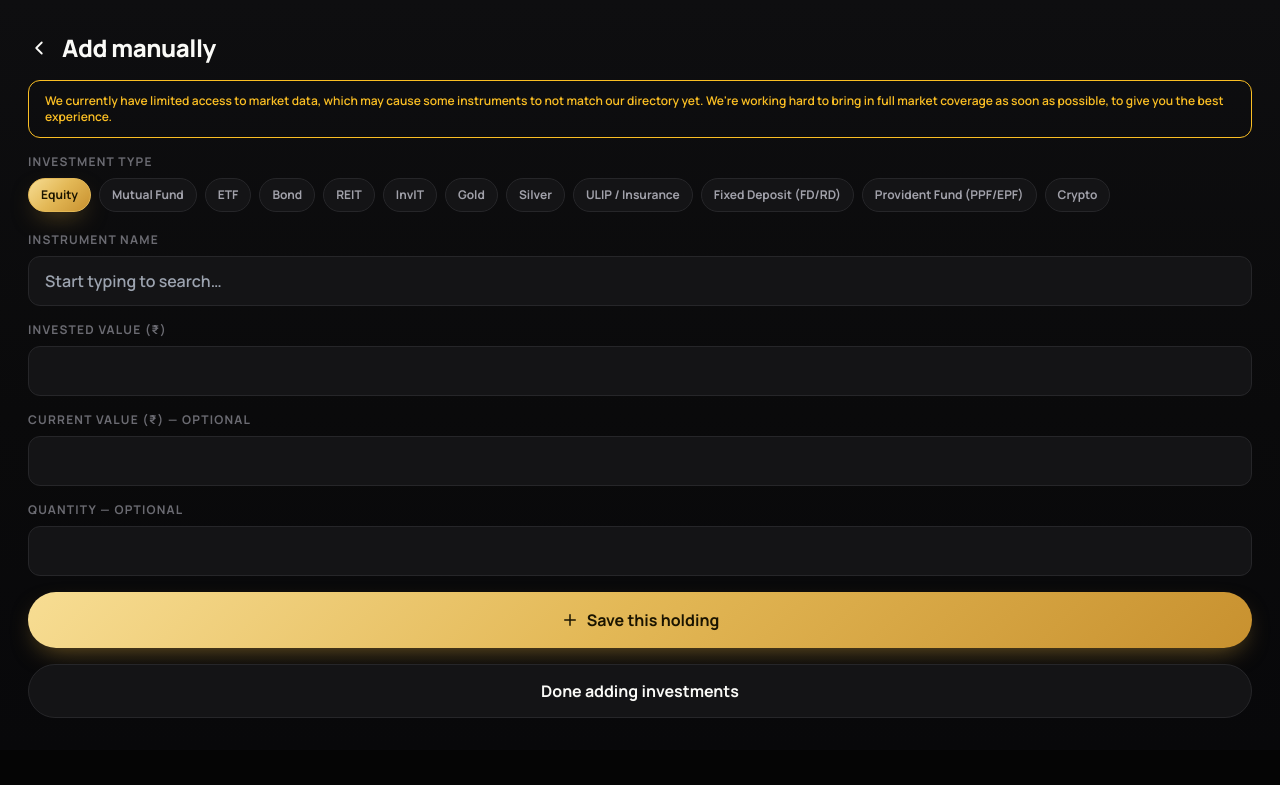
Test: ManualEntry — PF (Provident Fund) › defaults to PPF and pre-fills the current government-declared PPF rate, then switches on EPF/VPF tap
Click the button with test id "asset-class-PF".
click(949, 195)  # box 862,178 -> 1036,212
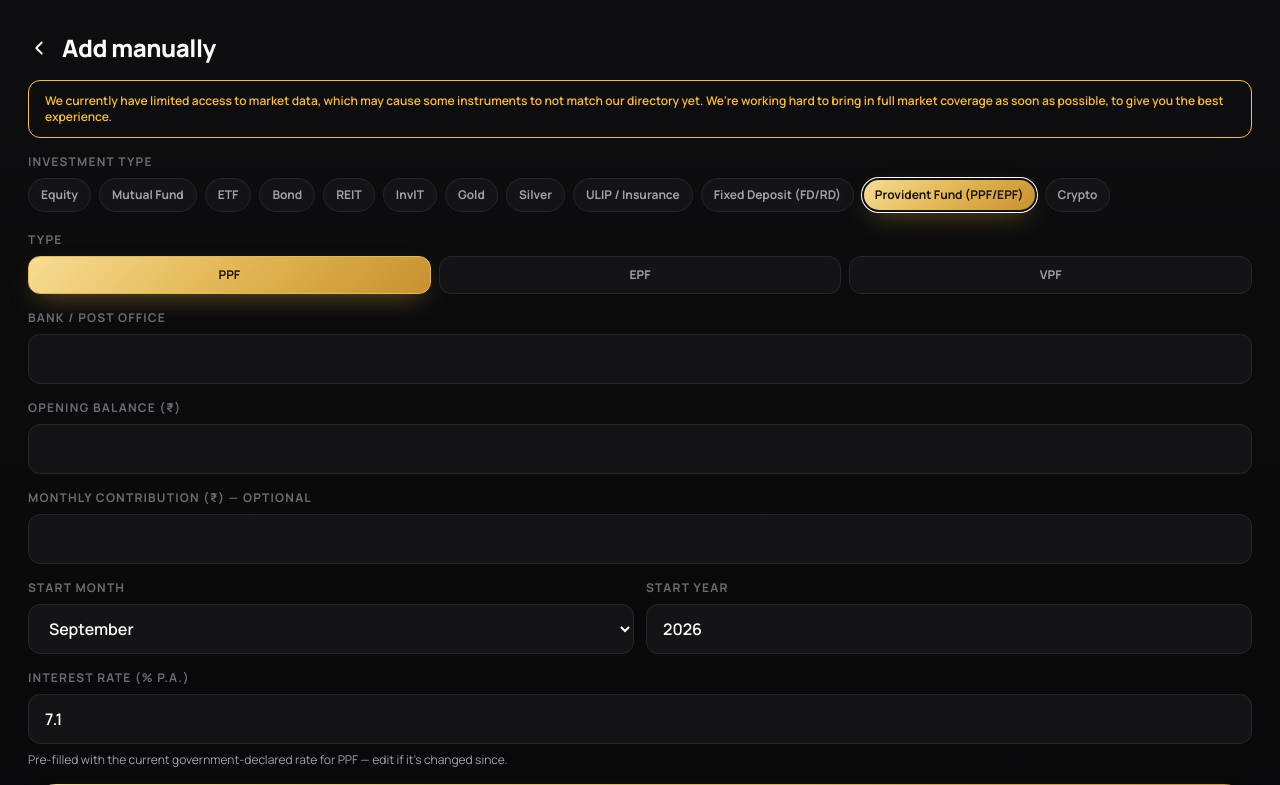
Now the number field with test id "pf-rate-input" holds "7.1", box 28,694 -> 1252,744
Click the button with test id "pf-subtype-EPF".
click(640, 275)  # box 439,256 -> 841,294
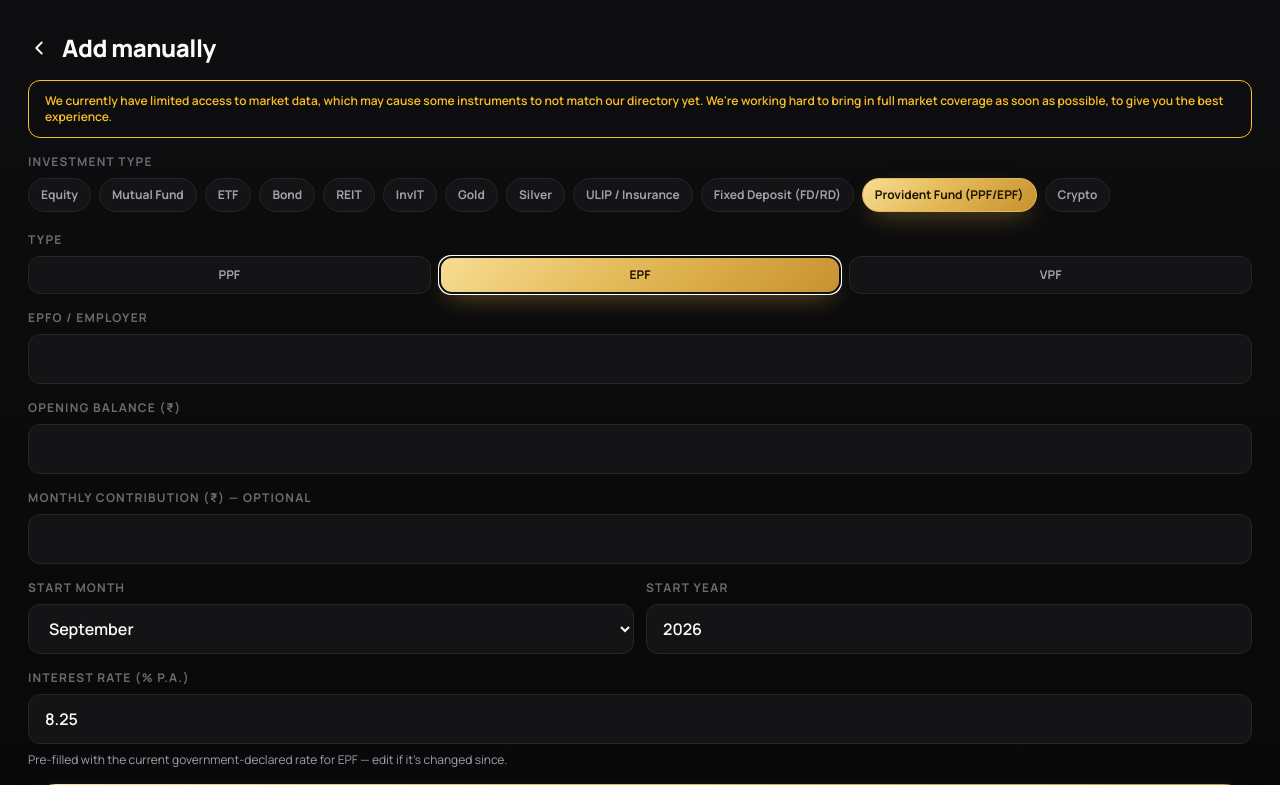
Now the number field with test id "pf-rate-input" holds "8.25", box 28,694 -> 1252,744
